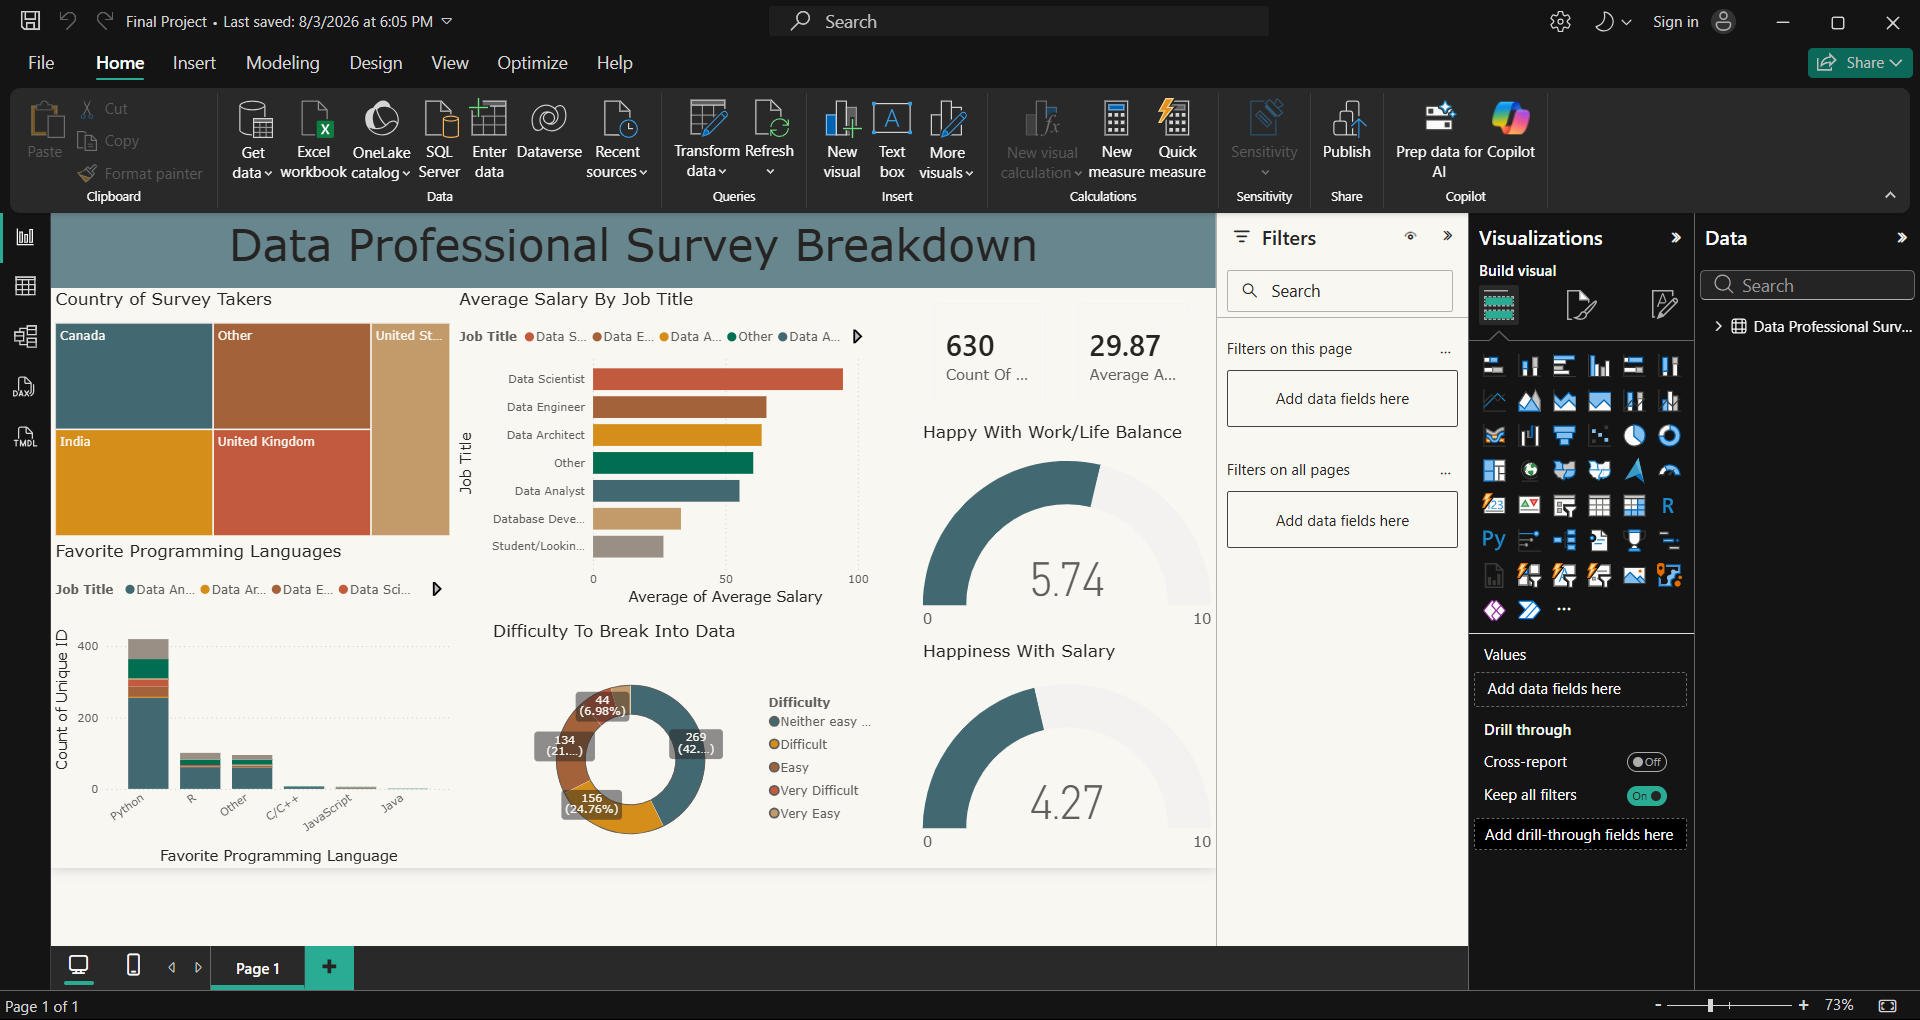

Layout of this report page (visuals, bound fields, positions):
{"tool":"powerbi","page":{"name":"Page 1","canvas":[1280,720],"ordinal":0},"visuals":[{"type":"donutChart","title":"Difficulty To Break Into Data","fields":{"Category":["Data Professional Survey.Q7 - How difficult was it for you to break into Data?"],"Y":["CountNonNull(Data Professional Survey.Q7 - How difficult was it for you to break into Data?)"]},"box":[480.8,447.8,443.7,272],"z":0},{"type":"textbox","box":[0,0,1280.3,82.3],"z":1000},{"type":"cardVisual","fields":{"Data":["Count(Data Professional Survey.Unique ID)"]},"box":[953.3,82.4,157.8,142.6],"z":1000,"group":"g1"},{"type":"barChart","title":"Average Salary By Job Title","fields":{"Category":["Data Professional Survey.Q1 - Which Title Best Fits your Current Role?.1"],"Y":["Avg(Data Professional Survey.Average Salary)"],"Series":["Data Professional Survey.Q1 - Which Title Best Fits your Current Role?.1"]},"box":[443.7,82.4,460.2,353],"z":2000},{"type":"cardVisual","fields":{"Data":["Avg(Data Professional Survey.Q10 - Current Age)"]},"box":[1111.3,82.4,157,142],"z":2000,"group":"g1"},{"type":"columnChart","title":"Favorite Programming Languages","fields":{"Category":["Data Professional Survey.Q5 - Favorite Programming Language.1"],"Y":["CountNonNull(Data Professional Survey.Unique ID)"],"Series":["Data Professional Survey.Q1 - Which Title Best Fits your Current Role?.1"]},"box":[0,359.9,443.7,359.9],"z":3000},{"type":"treemap","title":"Country of Survey Takers","fields":{"Group":["Data Professional Survey.Q11 - Which Country do you live in?.1"],"Values":["Count(Data Professional Survey.Q11 - Which Country do you live in?.1)"]},"box":[0,82.4,443.7,277.5],"z":4000},{"type":"group","id":"g1","title":"Group 1","box":[953.3,82.4,315,142.6],"z":5000},{"type":"gauge","title":"Happy With Work/Life Balance","fields":{"Y":["Avg(Data Professional Survey.Q6 - How Happy are you in your Current Position with the following? (Work/Life Balance))"],"MinValue":["Min(Data Professional Survey.Q6 - How Happy are you in your Current Position with the following? (Work/Life Balance))1"],"MaxValue":["Max(Data Professional Survey.Q6 - How Happy are you in your Current Position with the following? (Work/Life Balance))2"]},"box":[953.3,229.4,326.9,240.4],"z":6000},{"type":"gauge","title":"Happiness With Salary","fields":{"MinValue":["Min(Data Professional Survey.Q6 - How Happy are you in your Current Position with the following? (Salary))"],"MaxValue":["Max(Data Professional Survey.Q6 - How Happy are you in your Current Position with the following? (Salary))1"],"Y":["Avg(Data Professional Survey.Q6 - How Happy are you in your Current Position with the following? (Salary))2"]},"box":[953.3,469.8,326.9,250],"z":7000}]}

Visuals, with their boxes on the page's 1280x720 design canvas (x1, y1, x2, y2). These are canvas units, not pixel positions in the 1920x1020 screenshot, which may show the page scaled, cropped or inside an application window:
"Difficulty To Break Into Data" donutChart: rect(481, 448, 924, 720)
textbox: rect(0, 0, 1280, 82)
cardVisual - Count(Data Professional Survey.Unique ID): rect(953, 82, 1111, 225)
"Average Salary By Job Title" barChart: rect(444, 82, 904, 435)
cardVisual - Avg(Data Professional Survey.Q10 - Current Age): rect(1111, 82, 1268, 224)
"Favorite Programming Languages" columnChart: rect(0, 360, 444, 720)
"Country of Survey Takers" treemap: rect(0, 82, 444, 360)
"Group 1" group: rect(953, 82, 1268, 225)
"Happy With Work/Life Balance" gauge: rect(953, 229, 1280, 470)
"Happiness With Salary" gauge: rect(953, 470, 1280, 720)
